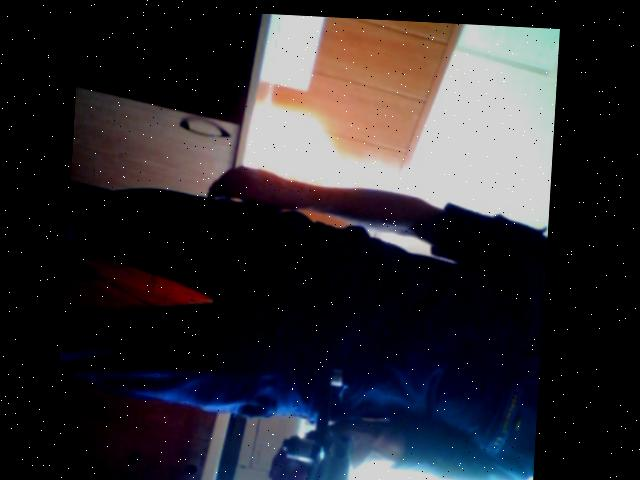drone: (275, 352, 393, 480)
